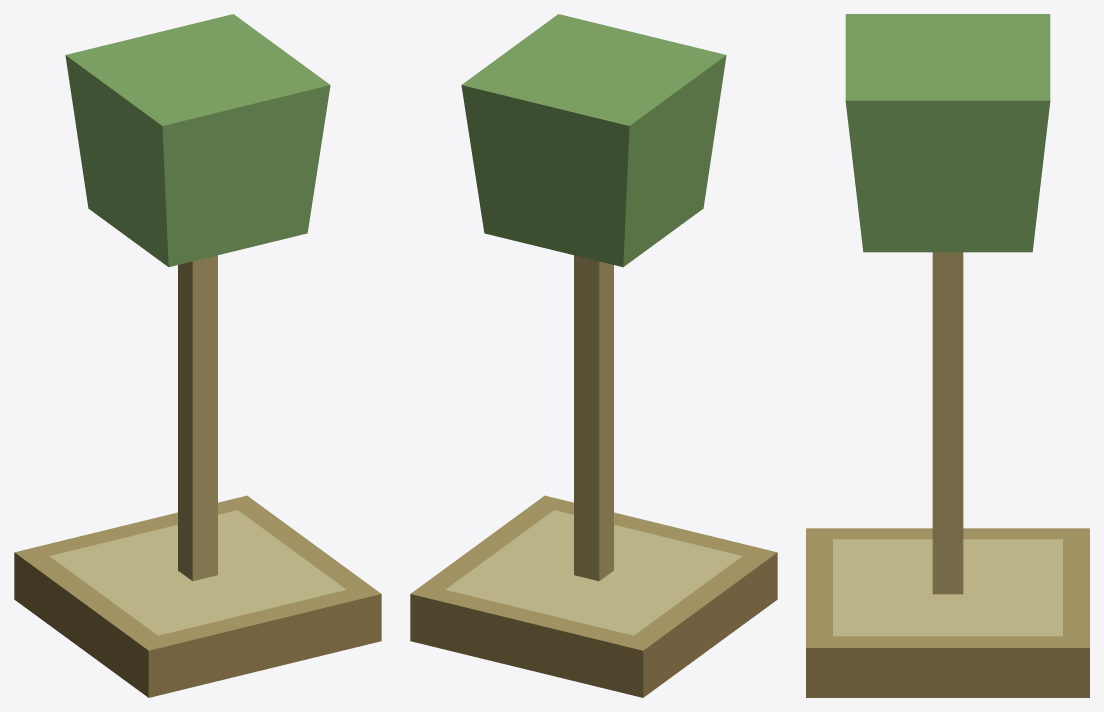
The model's file is Tree3.glb.
The picture shows the model from 3 angles, left to right: view 1: azimuth 30°, elevation 25°; view 2: azimuth 150°, elevation 25°; view 3: azimuth 270°, elevation 25°; orthographic projection. The views are drawn at different scales.
Parts seen in each view (by area): view 1: huitugou_2443_2667; view 2: huitugou_2443_2667; view 3: huitugou_2443_2667.
Part boxes in pixels (<box>): huitugou_2443_2667: <box>14,14,381,697</box>; huitugou_2443_2667: <box>410,14,777,697</box>; huitugou_2443_2667: <box>806,14,1089,697</box>.
Size of the model in its own units: 0.3831 by 0.8653 by 0.3831.
Materials: 1 (1 with a texture image).
